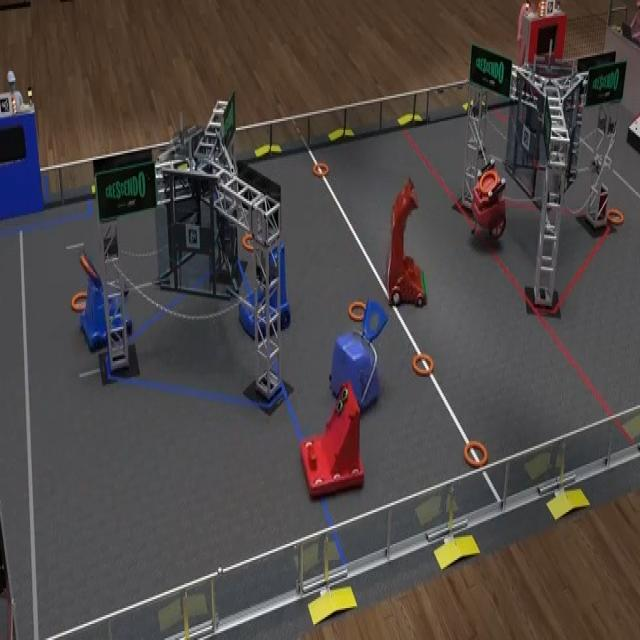notes: (465, 437, 491, 467), (411, 350, 435, 376), (310, 161, 330, 179), (349, 301, 365, 321), (72, 292, 88, 312), (606, 209, 624, 225), (243, 236, 253, 251)
